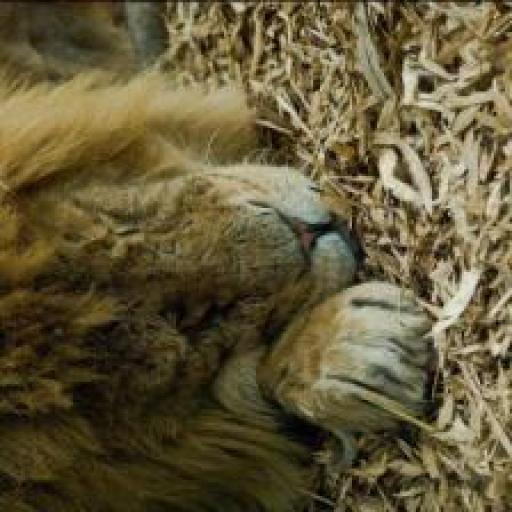lion: (2, 48, 511, 511)
